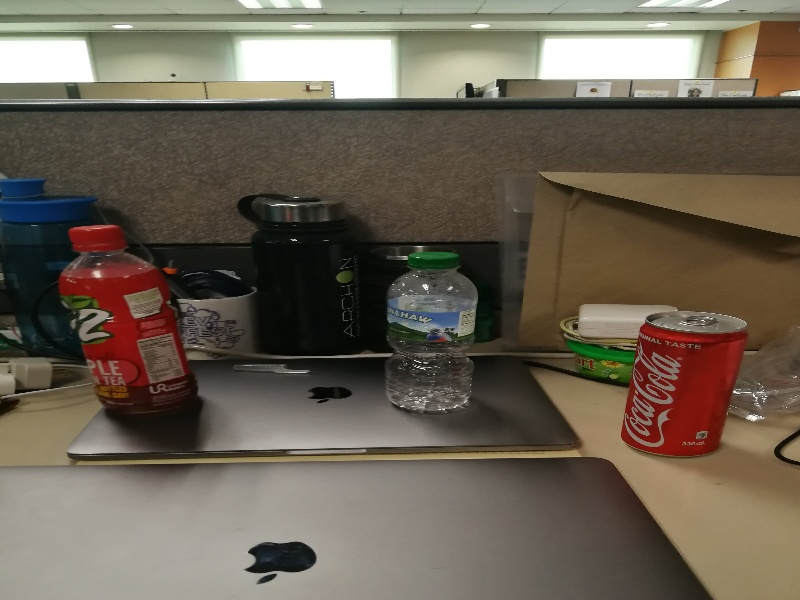PET #1: (57, 223, 202, 422), (378, 245, 482, 417)
